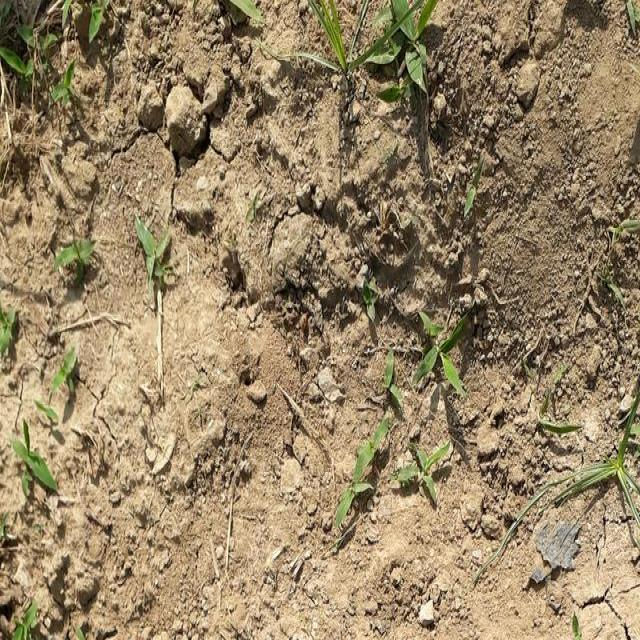weed: (294, 0, 458, 123)
